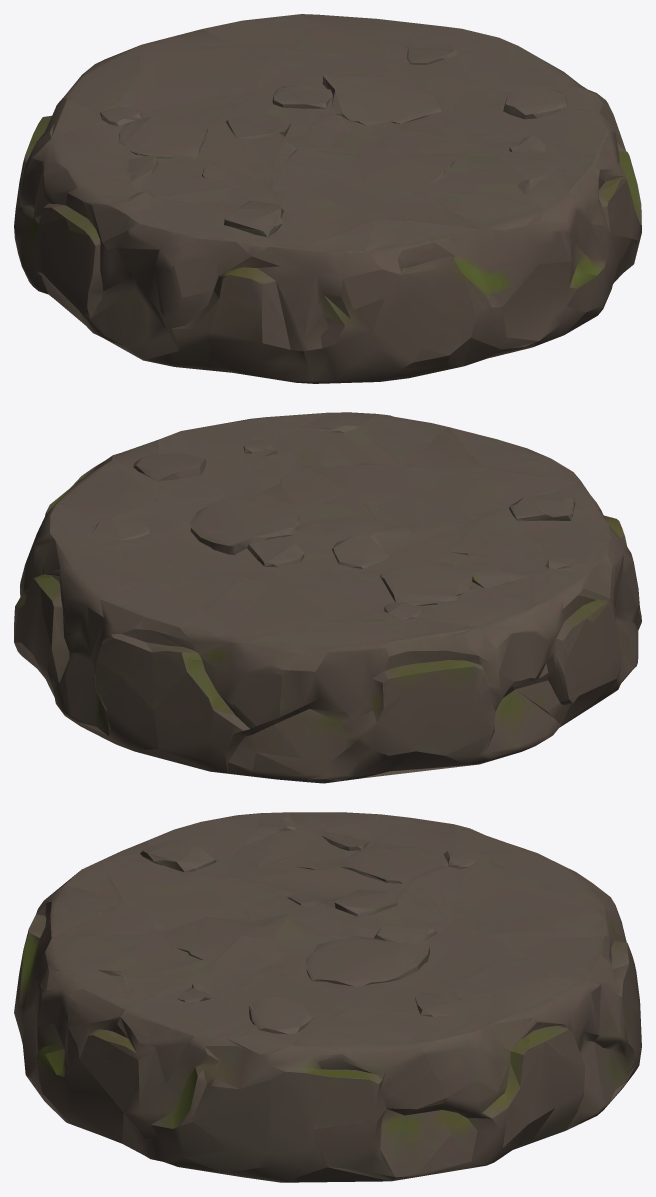
File: River_Stone_Flat.glb
3 renders of one model, top to bottom at view 1: azimuth 30°, elevation 25°; view 2: azimuth 150°, elevation 25°; view 3: azimuth 270°, elevation 25°, orthographic.
Bounding box in the file's own units: 1.89 × 0.4502 × 1.89.
Materials: 1 (1 with a texture image).
